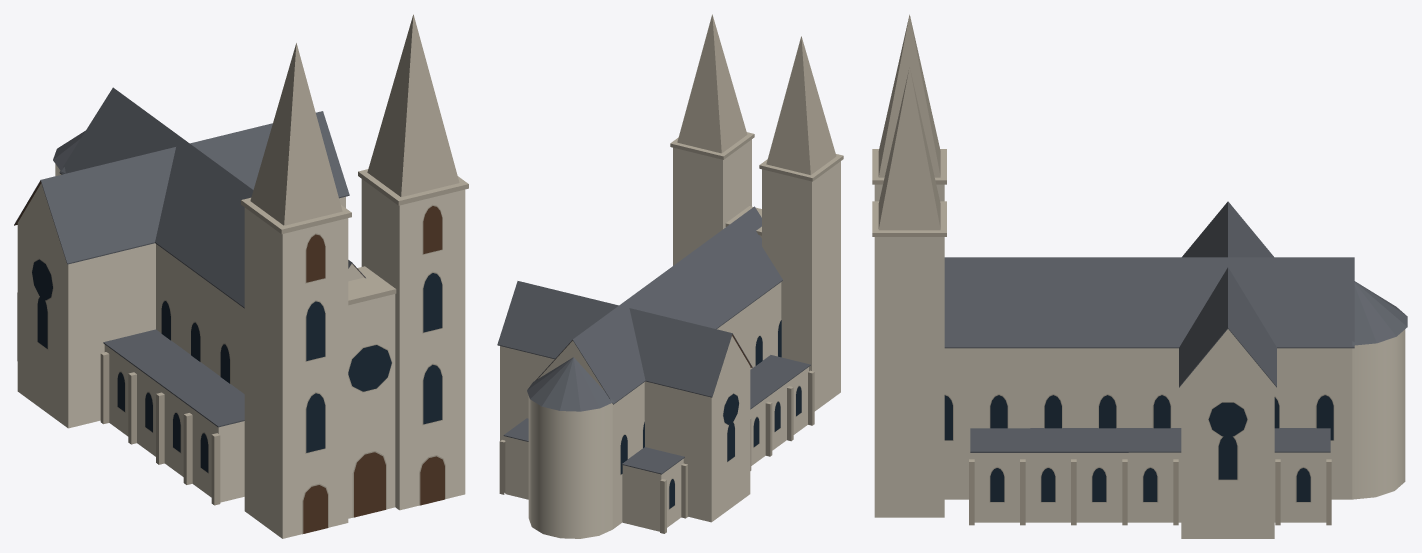
Rendered from cathedrale_gothique.glb.
3 renders of one model, left to right at view 1: azimuth 30°, elevation 25°; view 2: azimuth 150°, elevation 25°; view 3: azimuth 270°, elevation 25°, orthographic. The views are drawn at different scales.
Visible parts, largest first — view 1: cathedrale_gothique; view 2: cathedrale_gothique; view 3: cathedrale_gothique.
Part boxes in pixels (x1,y1,x2,y2): cathedrale_gothique: (14,14,468,538); cathedrale_gothique: (497,14,843,538); cathedrale_gothique: (872,14,1407,538).
Size of the model in its own units: 38.6 by 62 by 68.92.
Materials: 1 (1 with a texture image).
